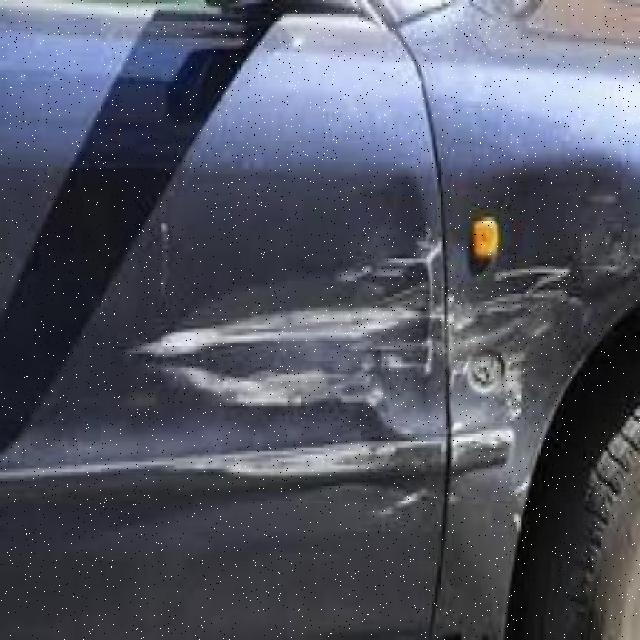damage: (128, 227, 577, 441), (212, 441, 396, 483)
